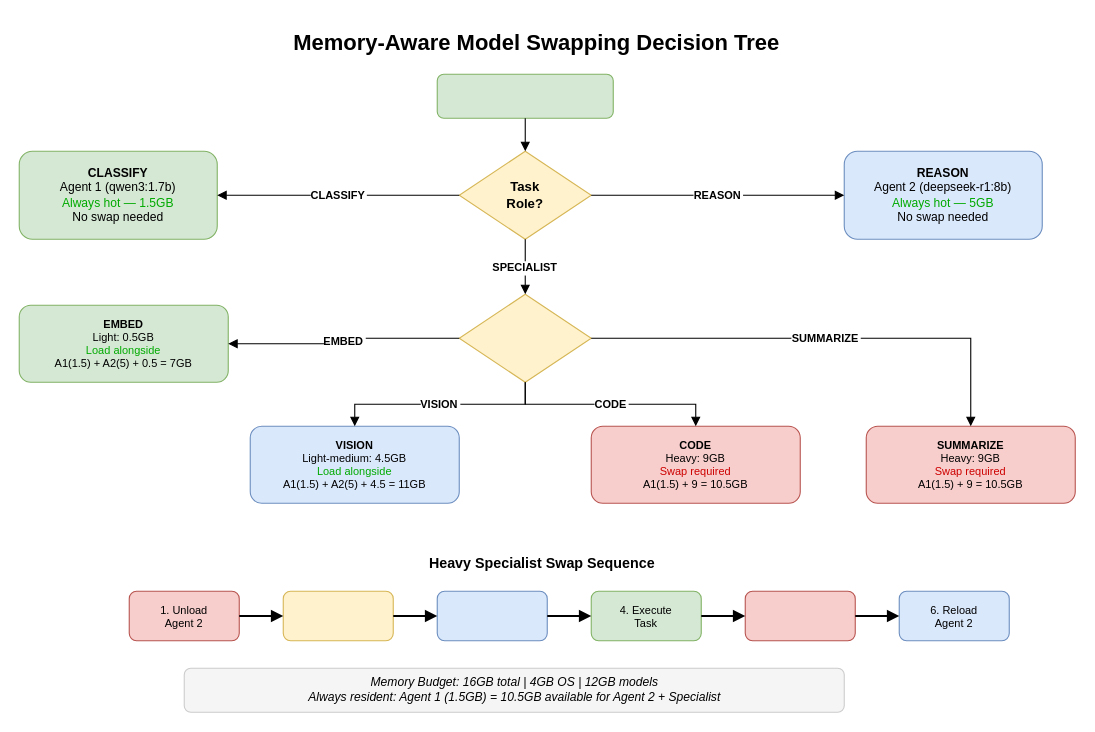
The diagram is 1095 pixels wide and 732 high, and some of its shapes have lost their labels. Here are the shapes that lost their labels. From the top down, the box of each, then its label:
(436, 73, 613, 118): Incoming Task
(458, 293, 591, 382): Specialist Type?
(282, 590, 393, 641): 2. Free 5GB VRAM
(436, 590, 547, 641): 3. Load Specialist
(744, 590, 855, 641): 5. Unload Specialist
